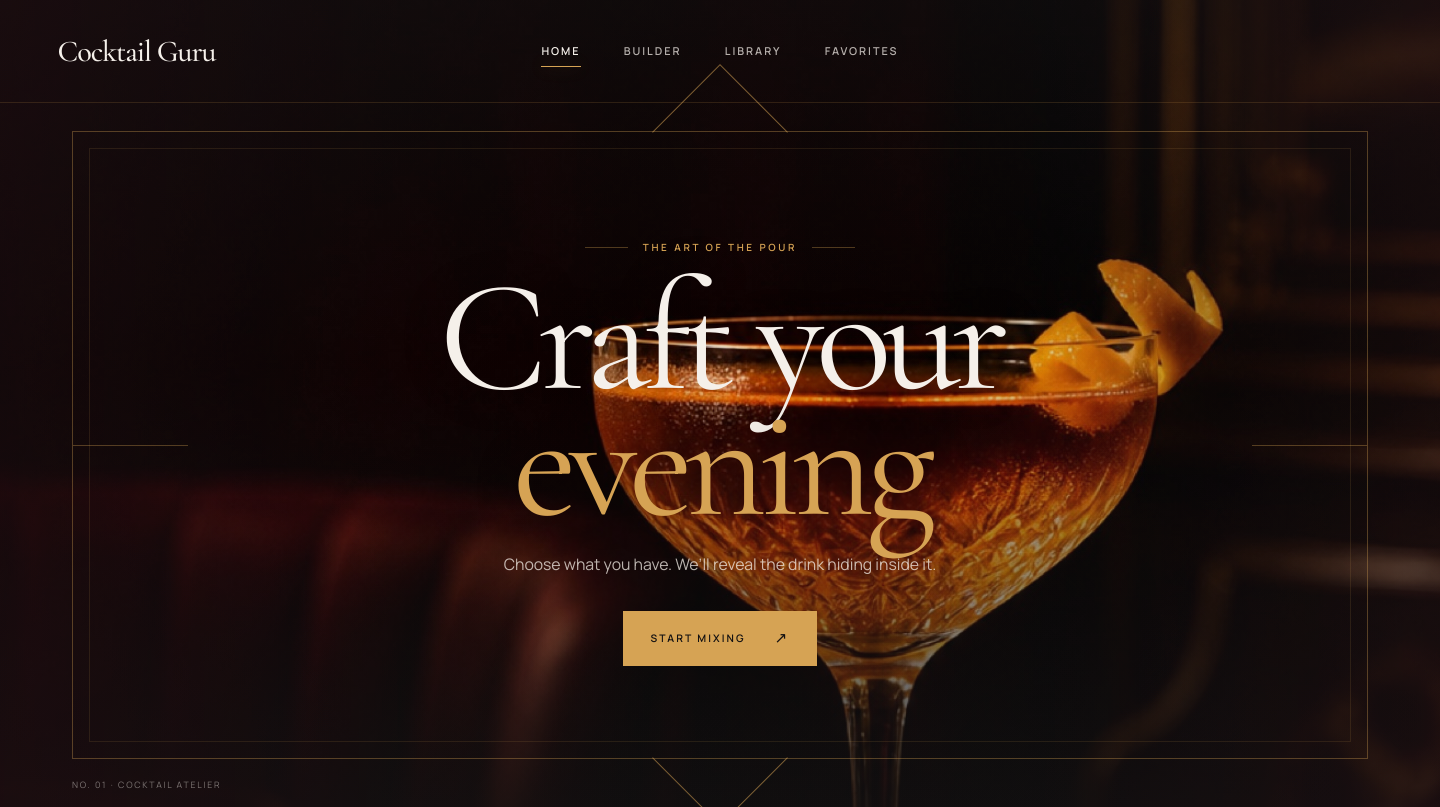
Test case: Header › marks the current route and navigates to the library
Click the link "Library" at (753, 51), box [725,32,782,70]
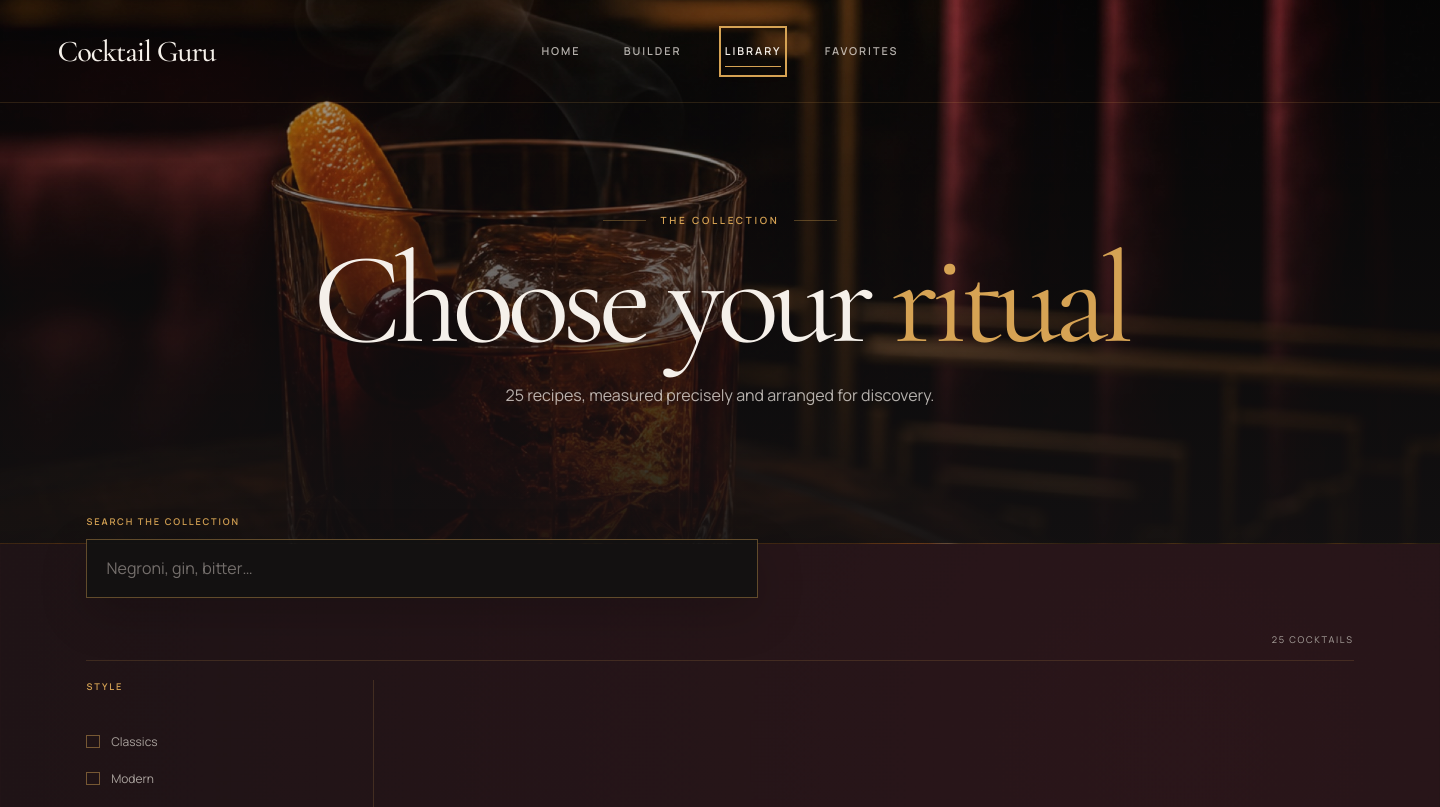
expect the heading "Choose your ritual" is shown: met, box [313,246,1127,354]
